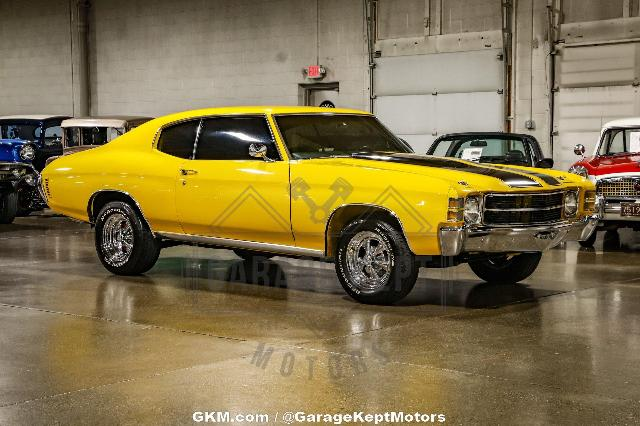chevelle-1972: (38, 106, 597, 304)
